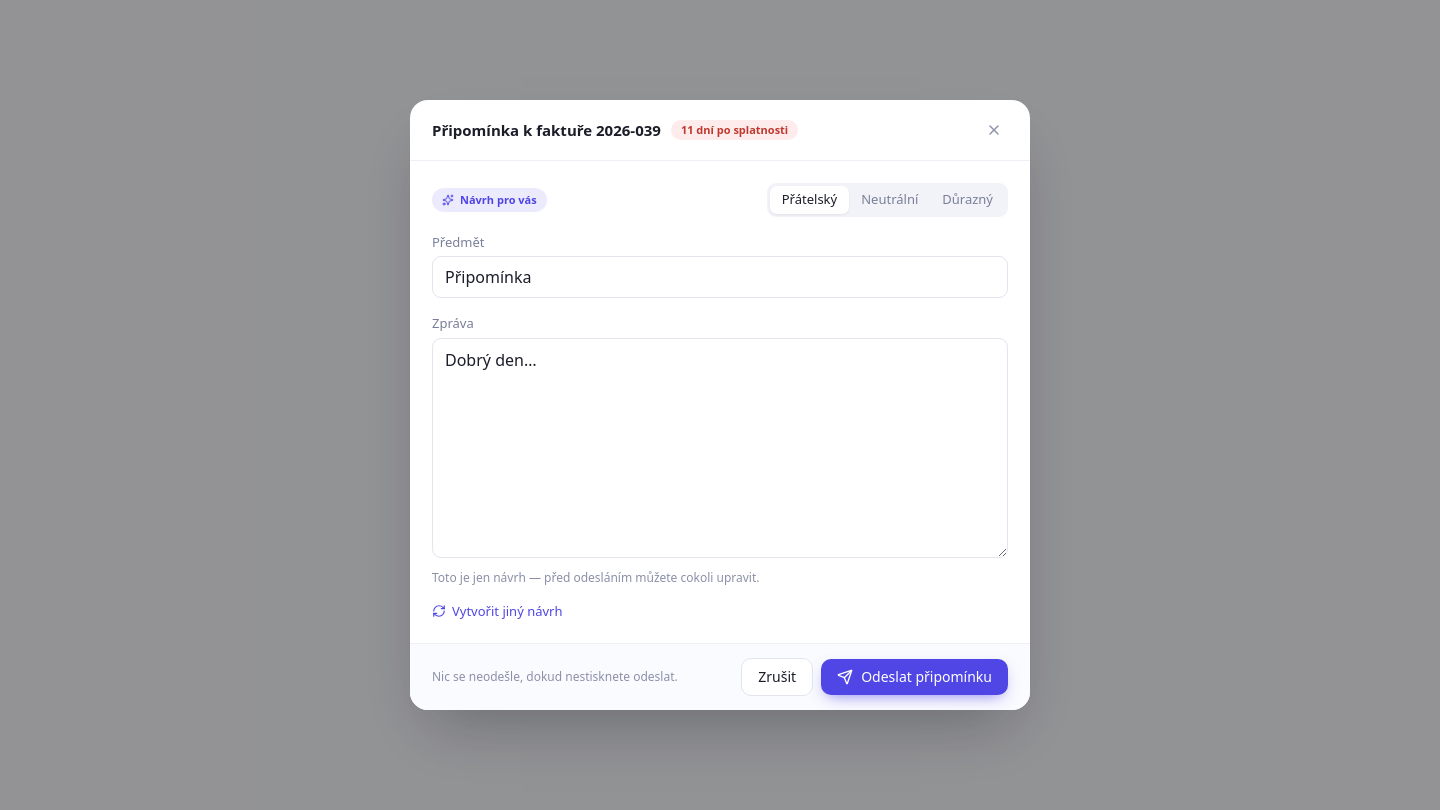
it: ReminderComposer › regenerates with the chosen tone
Expected: the field showing "Připomínka" is shown, [432,256,1008,298]
Step 1. Click the button "Důrazný" → (968, 200), box [930,186,1005,214]
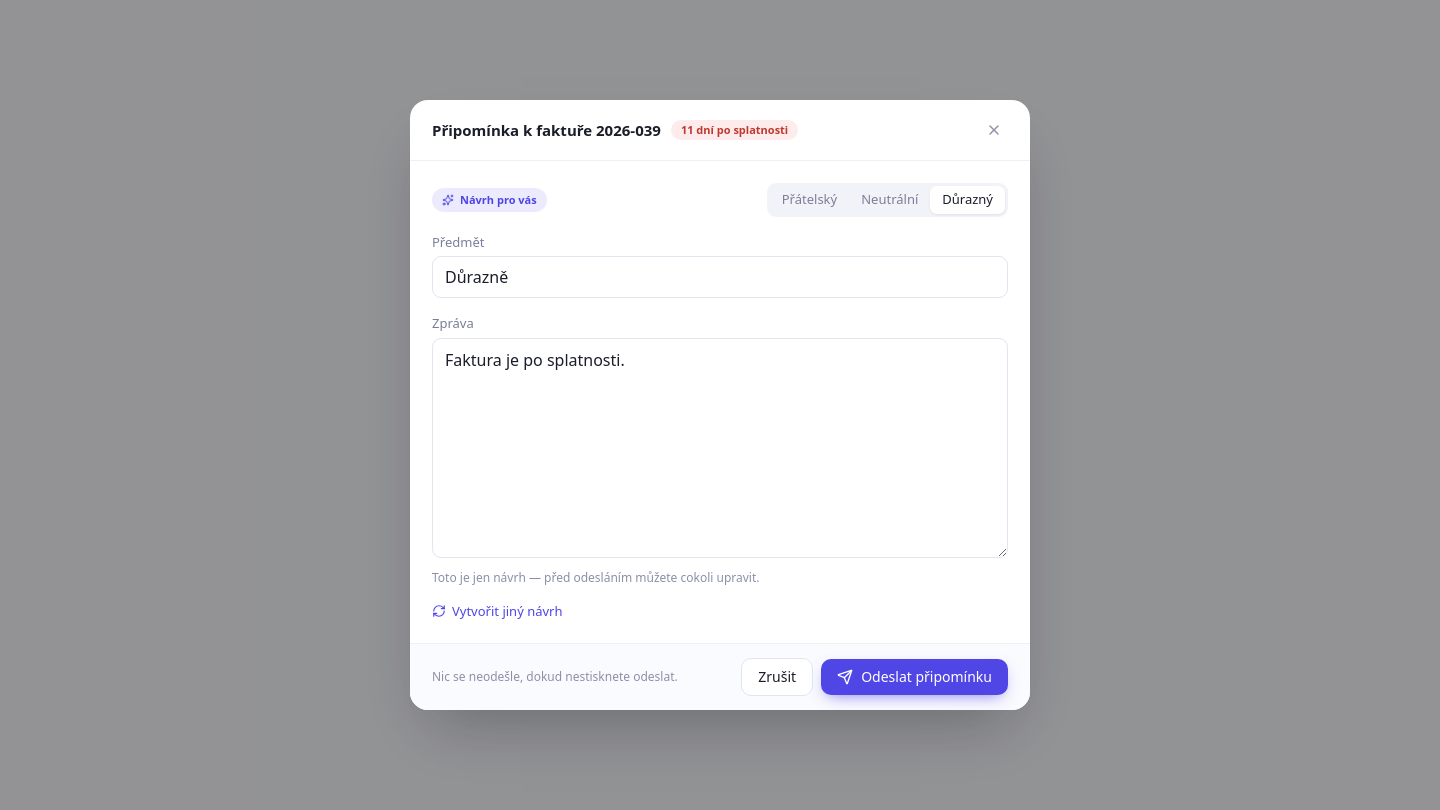
Expected: the field showing "Důrazně" is shown, [432,256,1008,298]
